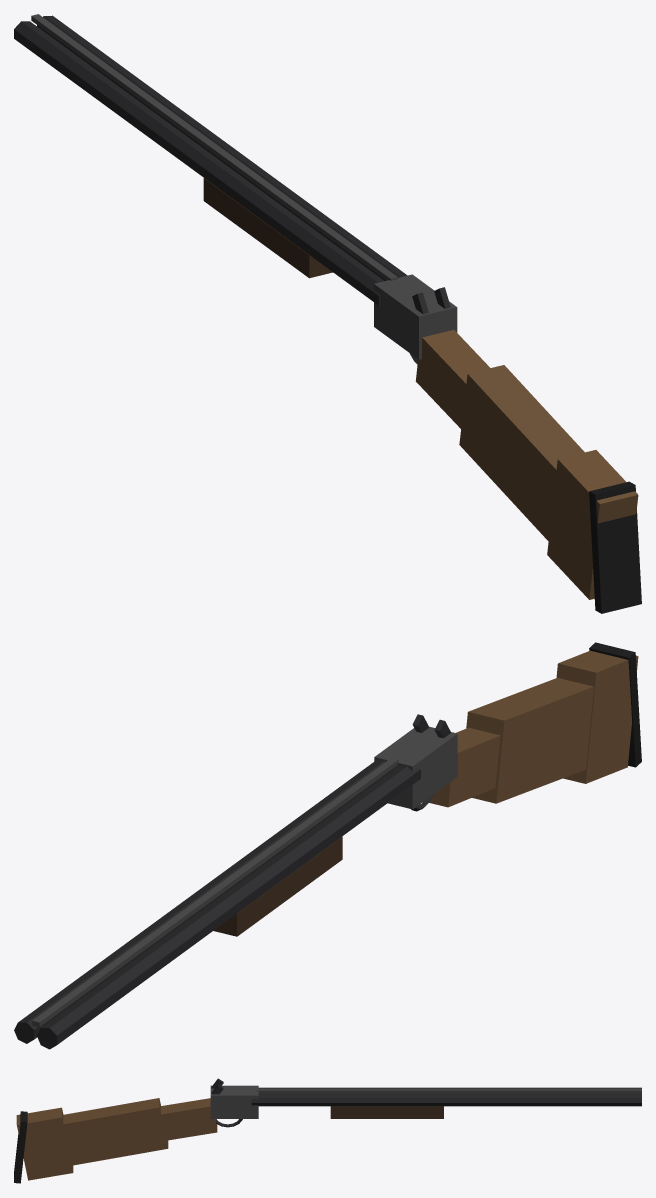
The model's file is shotgun.glb.
The picture shows the model from 3 angles, top to bottom: view 1: azimuth 30°, elevation 25°; view 2: azimuth 150°, elevation 25°; view 3: azimuth 270°, elevation 25°; orthographic projection. The views are drawn at different scales.
Parts seen in each view (by area): view 1: shotgun; view 2: shotgun; view 3: shotgun.
Part boxes in pixels (x1,y1,x2,y2): shotgun: (14, 14, 641, 613); shotgun: (14, 642, 641, 1049); shotgun: (14, 1078, 641, 1183).
Size of the model in its own units: 0.0469 by 0.1879 by 1.11.
